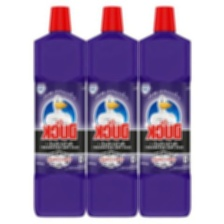cleaning_solution: (32, 3, 89, 219), (135, 3, 192, 219), (84, 3, 140, 219)
